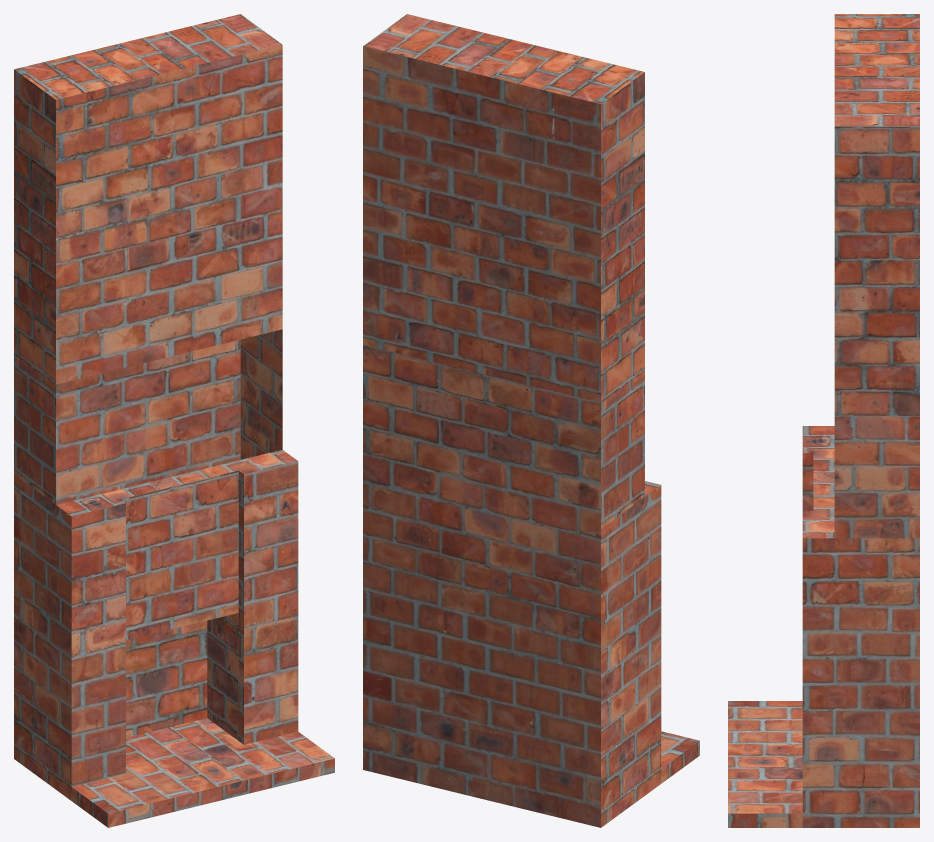
The model's file is Chimney.dae.
3 renders of one model, left to right at view 1: azimuth 30°, elevation 25°; view 2: azimuth 150°, elevation 25°; view 3: azimuth 270°, elevation 25°, orthographic. The views are drawn at different scales.
Parts seen in each view (by area): view 1: Chimney; view 2: Chimney; view 3: Chimney.
Part boxes in pixels (x1,y1,x2,y2): Chimney: (14, 14, 334, 827); Chimney: (363, 14, 699, 827); Chimney: (728, 14, 919, 827).
Size of the model in its own units: 2.5 by 1.8 by 7.27.
Materials: 1 (1 with a texture image).
